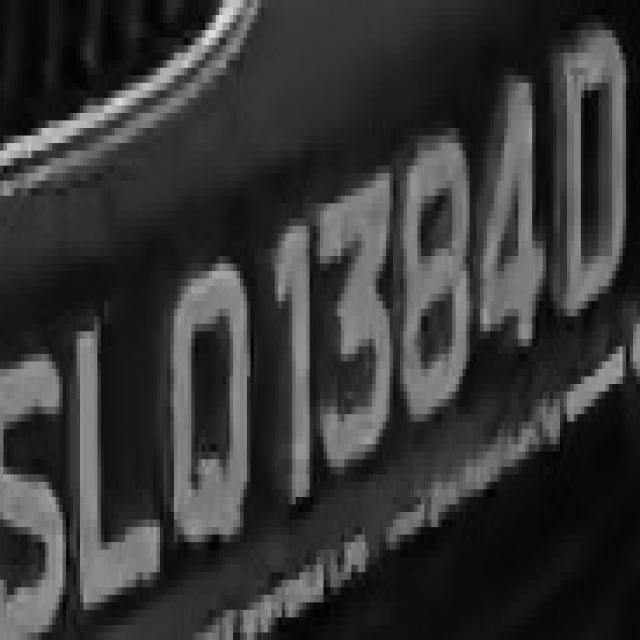1: (275, 188, 320, 550)
3: (303, 150, 393, 490)
4: (466, 68, 546, 376)
8: (386, 136, 477, 429)
D: (546, 22, 633, 324)
L: (76, 302, 167, 618)
Q: (163, 233, 254, 572)
S: (0, 294, 66, 632)
